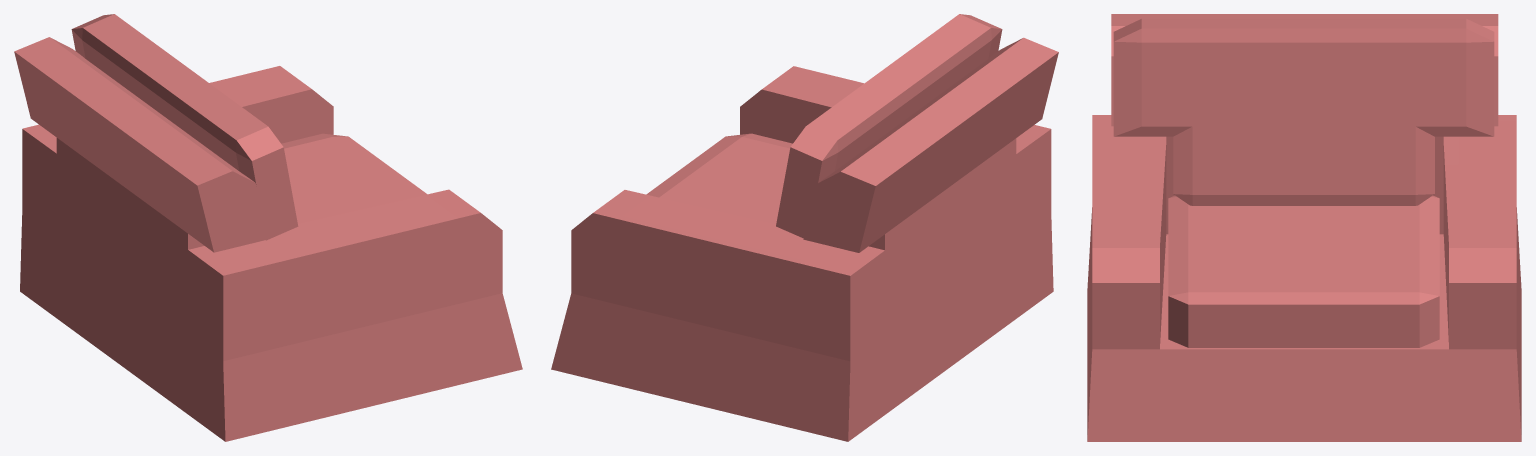
Rendered from Sofa.glb.
3 views of the same model, side by side, from view 1: azimuth 30°, elevation 25°; view 2: azimuth 150°, elevation 25°; view 3: azimuth 270°, elevation 25° (orthographic). The views are drawn at different scales.
Parts seen in each view (by area): view 1: Sofa_Cube.021; view 2: Sofa_Cube.021; view 3: Sofa_Cube.021.
Boxes of the visible parts, bbox=[...] form: Sofa_Cube.021: bbox=[14, 14, 522, 441]; Sofa_Cube.021: bbox=[551, 14, 1058, 441]; Sofa_Cube.021: bbox=[1087, 14, 1521, 441].
Size of the model in its own units: 0.7369 by 0.6276 by 0.8354.
